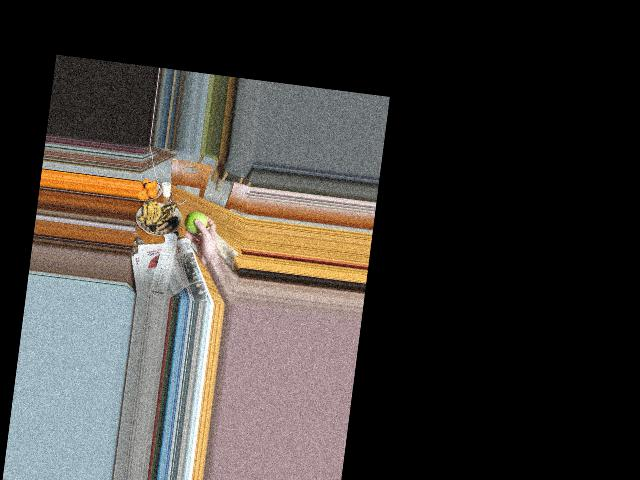apple: (183, 207, 208, 237)
